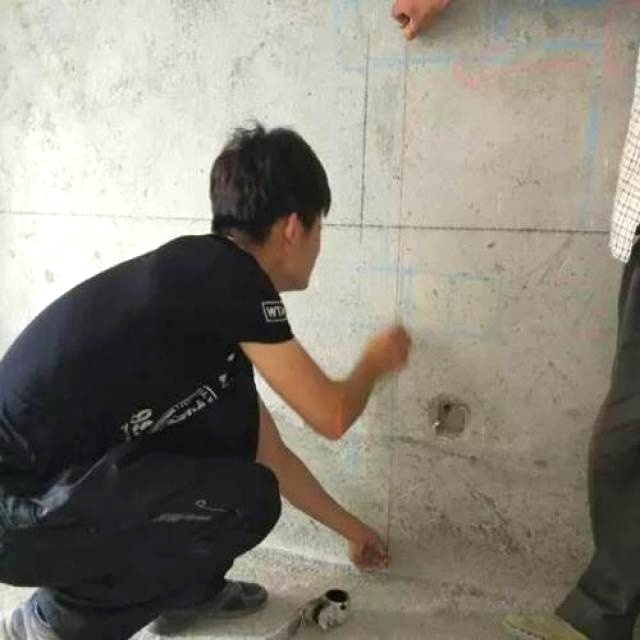Sin_Casco_Mascarrilla: (210, 122, 333, 290)
